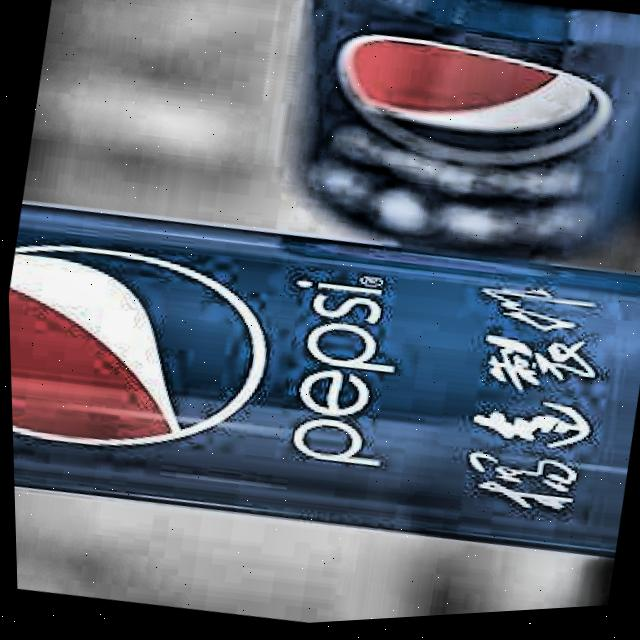metal: (4, 159, 640, 615), (253, 0, 640, 304)
